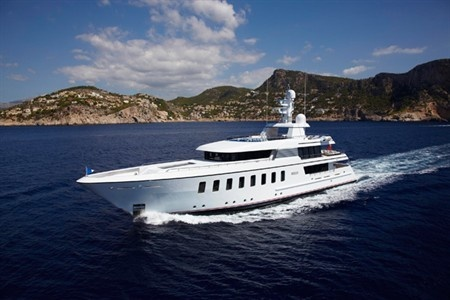yacht: (76, 83, 357, 222)
